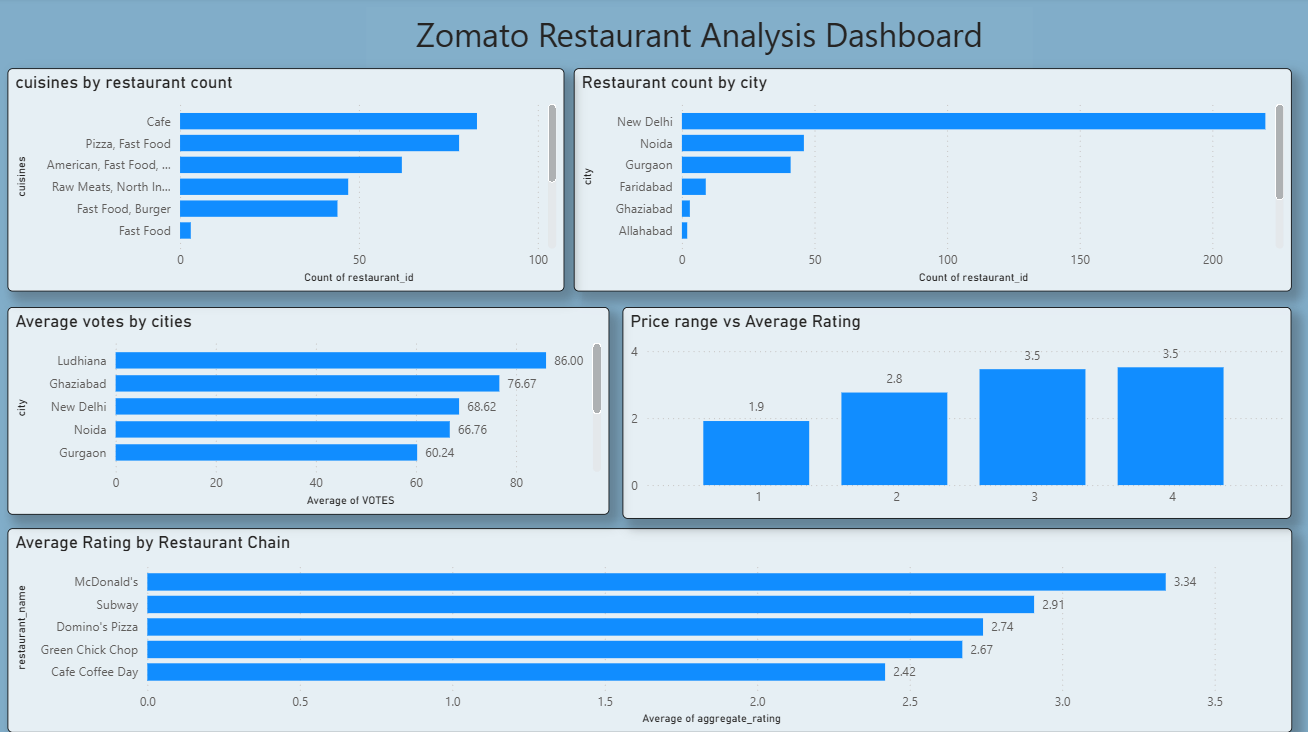

This screenshot's page, from the dashboard's own definition file:
{"tool":"powerbi","page":{"name":"Page 1","canvas":[1280,720],"ordinal":0},"visuals":[{"type":"clusteredBarChart","title":" Restaurant count by city","fields":{"Y":["CountNonNull(hrishiita zomato.restaurant_id)"],"Category":["hrishiita zomato.city"]},"box":[561.2,70,702.6,218.2],"z":1000},{"type":"clusteredBarChart","title":"Average Rating by Restaurant Chain","fields":{"Y":["Avg(hrishiita zomato.aggregate_rating)"],"Category":["hrishiita zomato.restaurant_name"]},"box":[6.9,520.1,1257,200.3],"z":2000},{"type":"columnChart","title":"Price range vs Average Rating","fields":{"Category":["hrishiita zomato.price_range"],"Y":["Avg(hrishiita zomato.aggregate_rating)"]},"box":[609.3,303.3,654.5,207.2],"z":3000},{"type":"clusteredBarChart","title":"Average votes by cities ","fields":{"Category":["hrishiita zomato.city"],"Y":["Avg(hrishiita zomato.VOTES)"]},"box":[6.9,303.3,588.7,203.1],"z":4000},{"type":"textbox","box":[358.1,9.6,651.8,60.4],"z":5000},{"type":"clusteredBarChart","title":"cuisines by restaurant count","fields":{"Y":["CountNonNull(hrishiita zomato.restaurant_id)"],"Category":["hrishiita zomato.cuisines"]},"box":[6.9,70,544.8,218.2],"z":5001}]}

Visuals, with their boxes in screenshot pixels (x1, y1, x2, y2), scaled from the page's 1280x720 canvas onto the 1308x732 screenshot:
" Restaurant count by city" clusteredBarChart: {"left": 573, "top": 71, "right": 1291, "bottom": 293}
"Average Rating by Restaurant Chain" clusteredBarChart: {"left": 7, "top": 529, "right": 1292, "bottom": 731}
"Price range vs Average Rating" columnChart: {"left": 623, "top": 308, "right": 1291, "bottom": 519}
"Average votes by cities " clusteredBarChart: {"left": 7, "top": 308, "right": 609, "bottom": 515}
textbox: {"left": 366, "top": 10, "right": 1032, "bottom": 71}
"cuisines by restaurant count" clusteredBarChart: {"left": 7, "top": 71, "right": 564, "bottom": 293}
